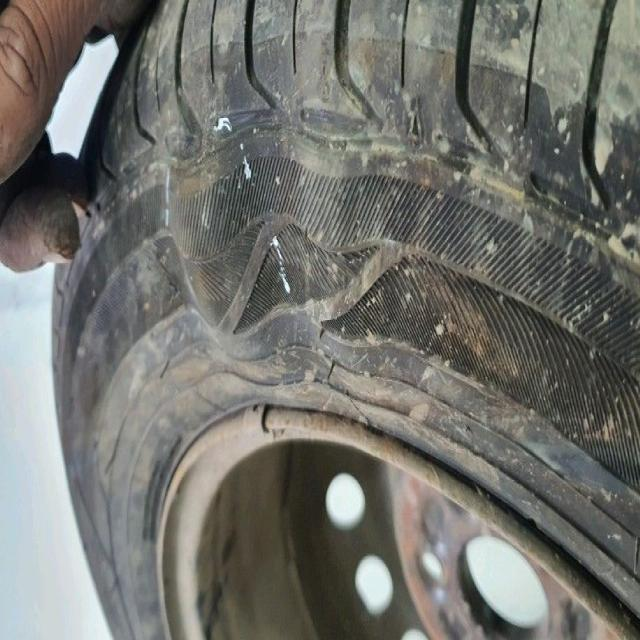Bulge: (303, 71, 408, 388), (165, 106, 282, 385)
